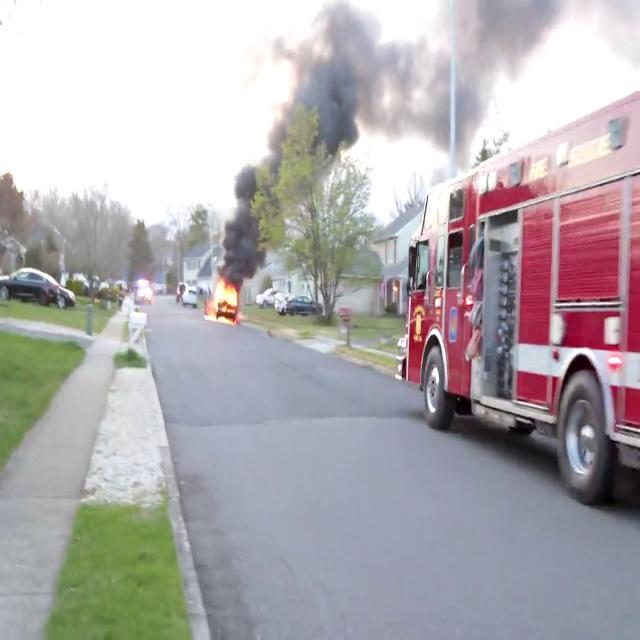Fire: (206, 270, 242, 322)
Smoke: (223, 1, 546, 220)
